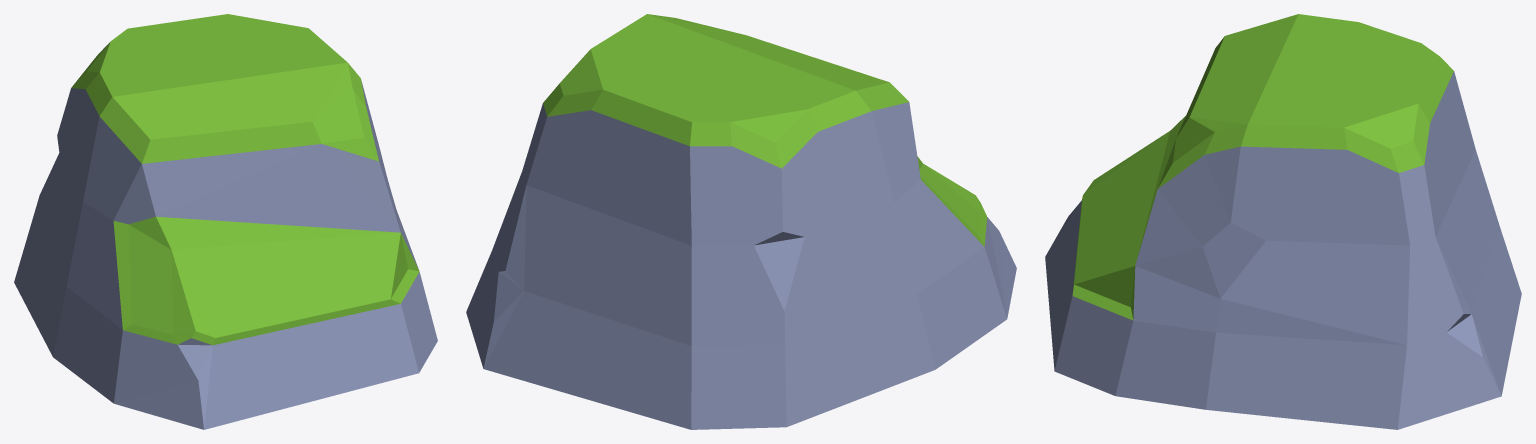
File: Rock_39_1.fbx
3 views of the same model, side by side, from view 1: azimuth 30°, elevation 25°; view 2: azimuth 150°, elevation 25°; view 3: azimuth 270°, elevation 25° (orthographic). The views are drawn at different scales.
Parts seen in each view (by area): view 1: Rock_39_1; view 2: Rock_39_1; view 3: Rock_39_1.
Part boxes in pixels (x1,y1,x2,y2): Rock_39_1: (14, 14, 437, 429); Rock_39_1: (466, 14, 1016, 429); Rock_39_1: (1045, 14, 1521, 429).
Size of the model in its own units: 1.77 by 1.09 by 1.84.
